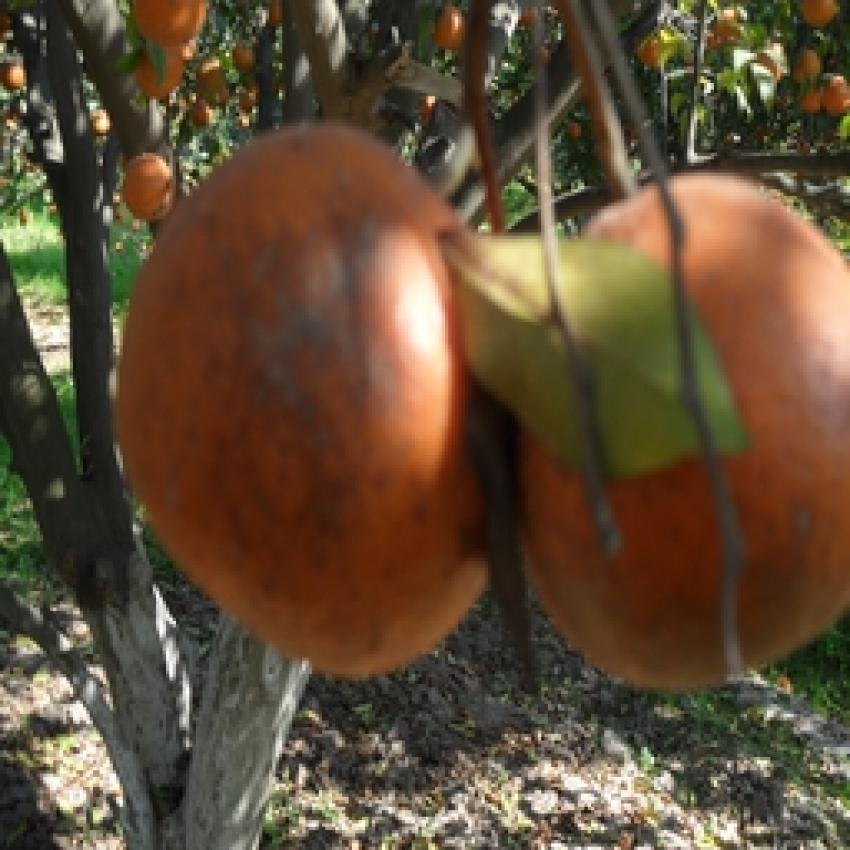Mal estado: (104, 117, 515, 693), (519, 134, 847, 711)
